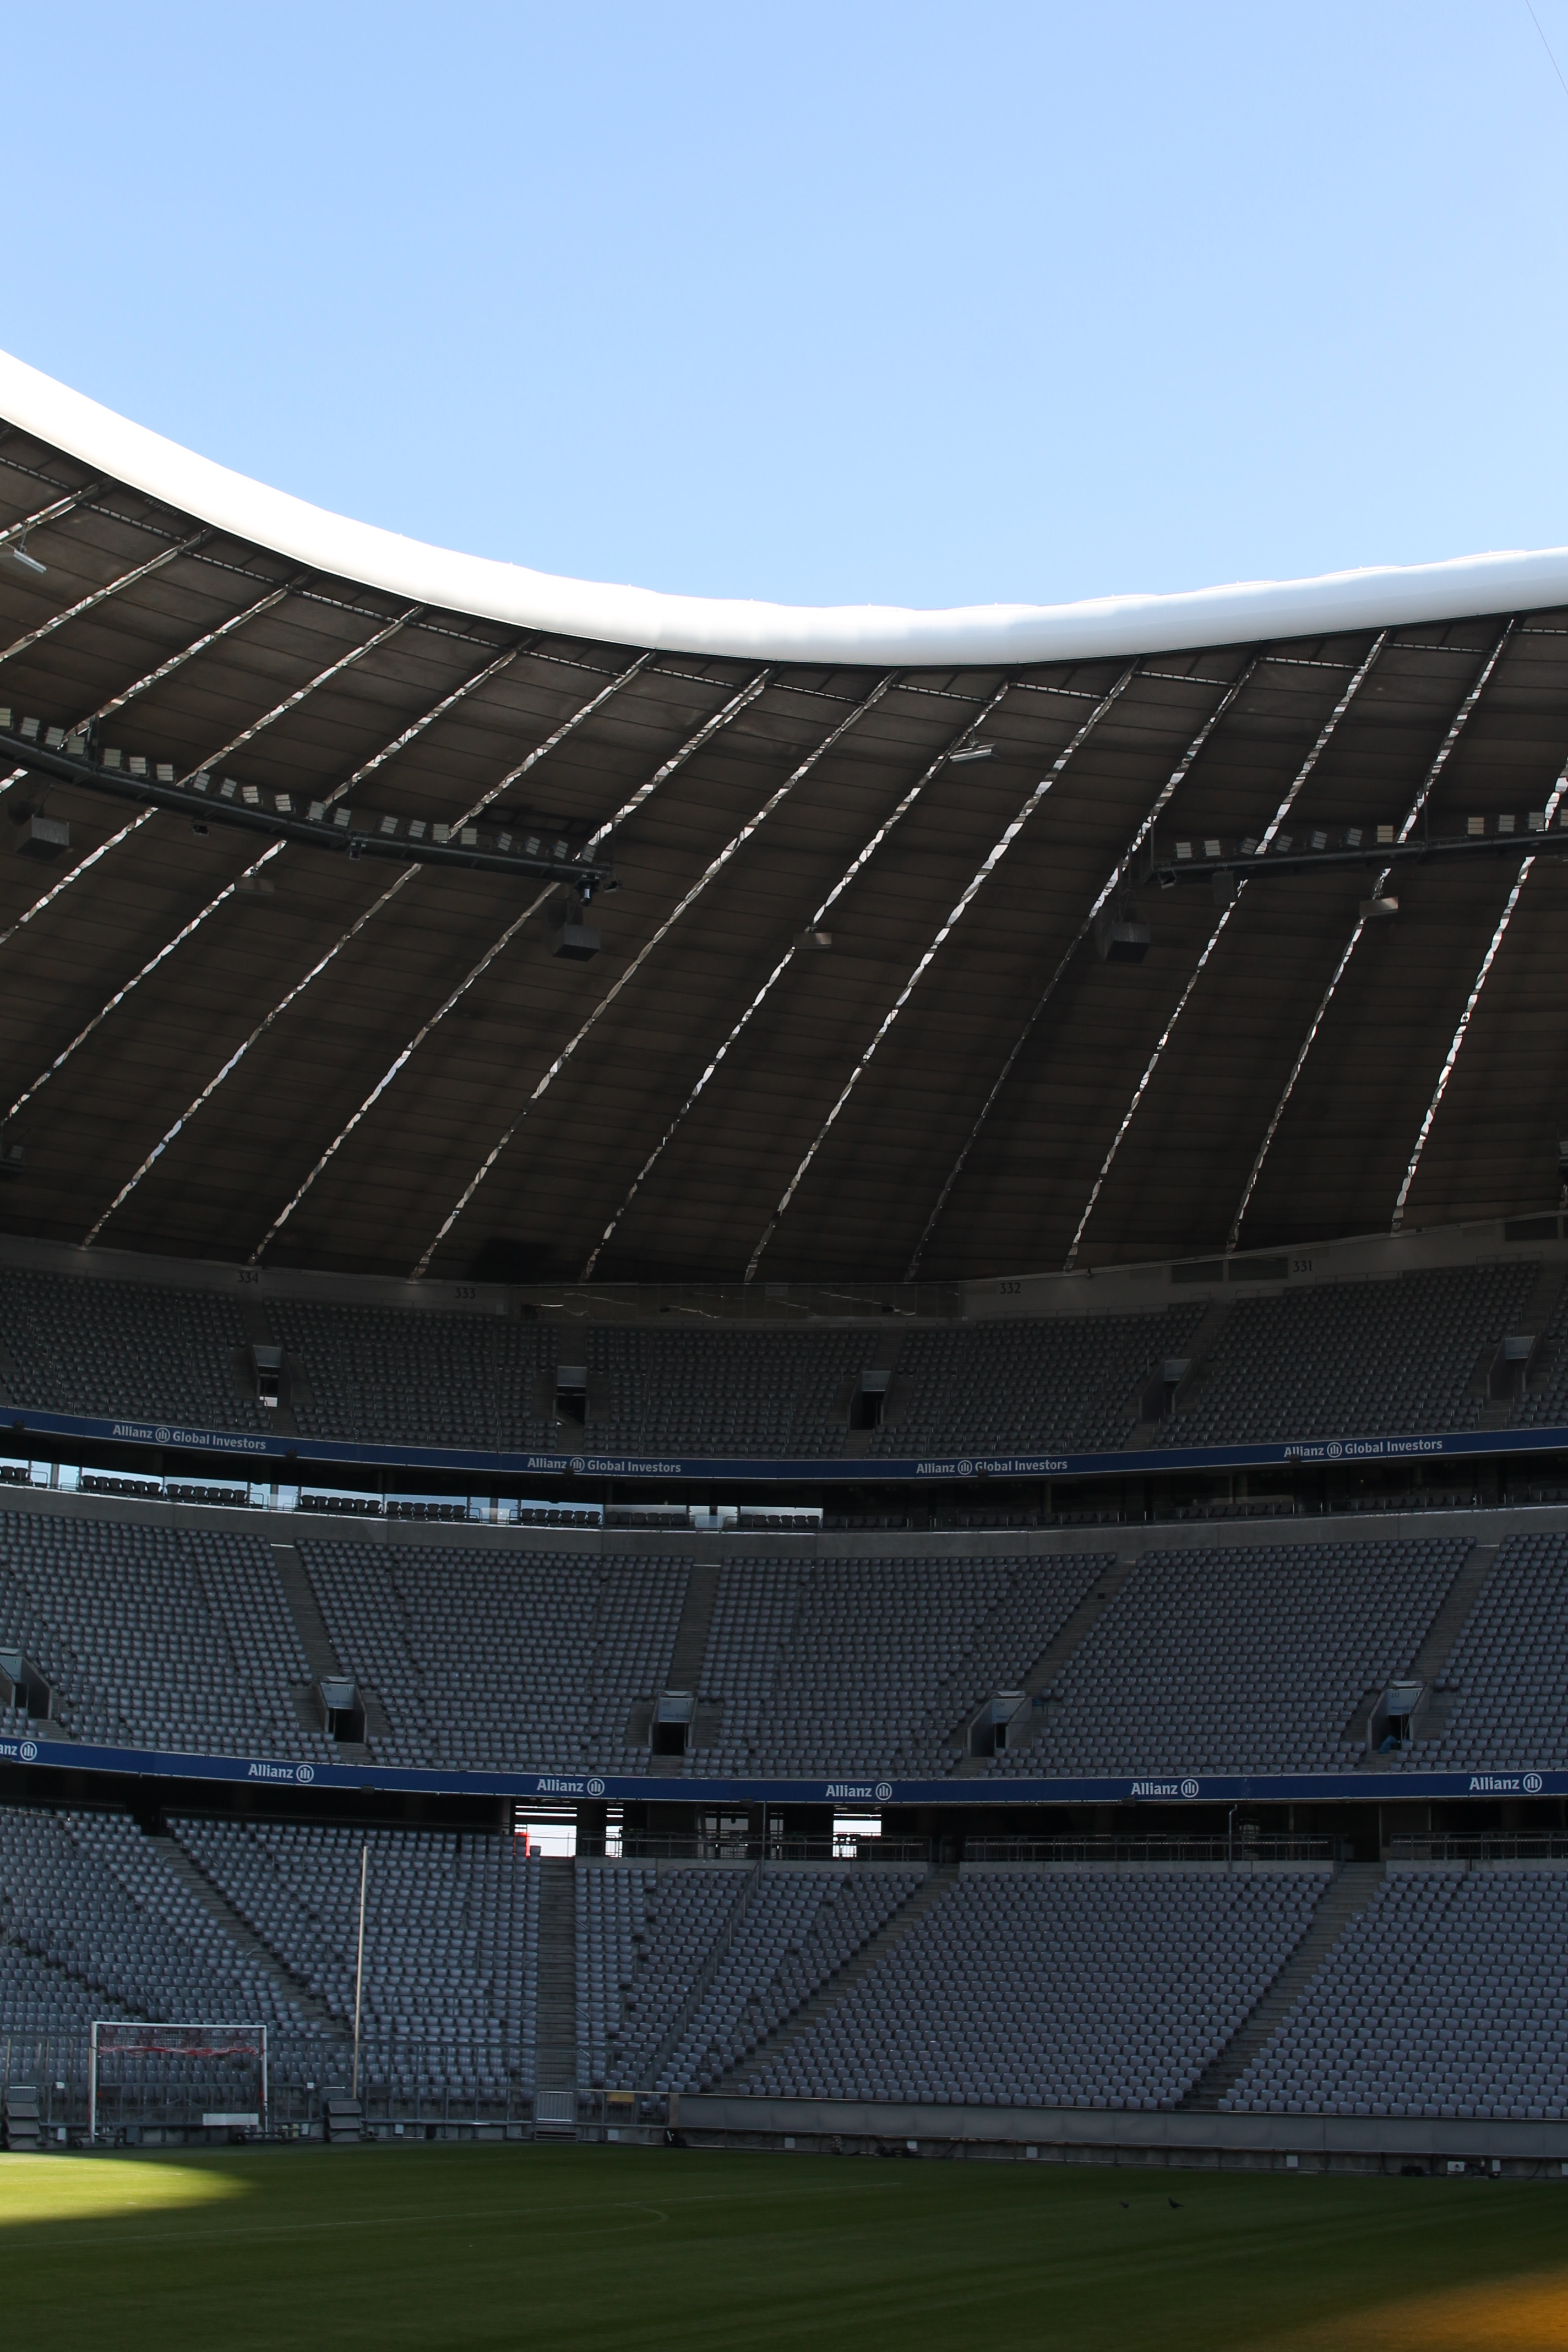stadium: (7, 306, 1568, 2340)
